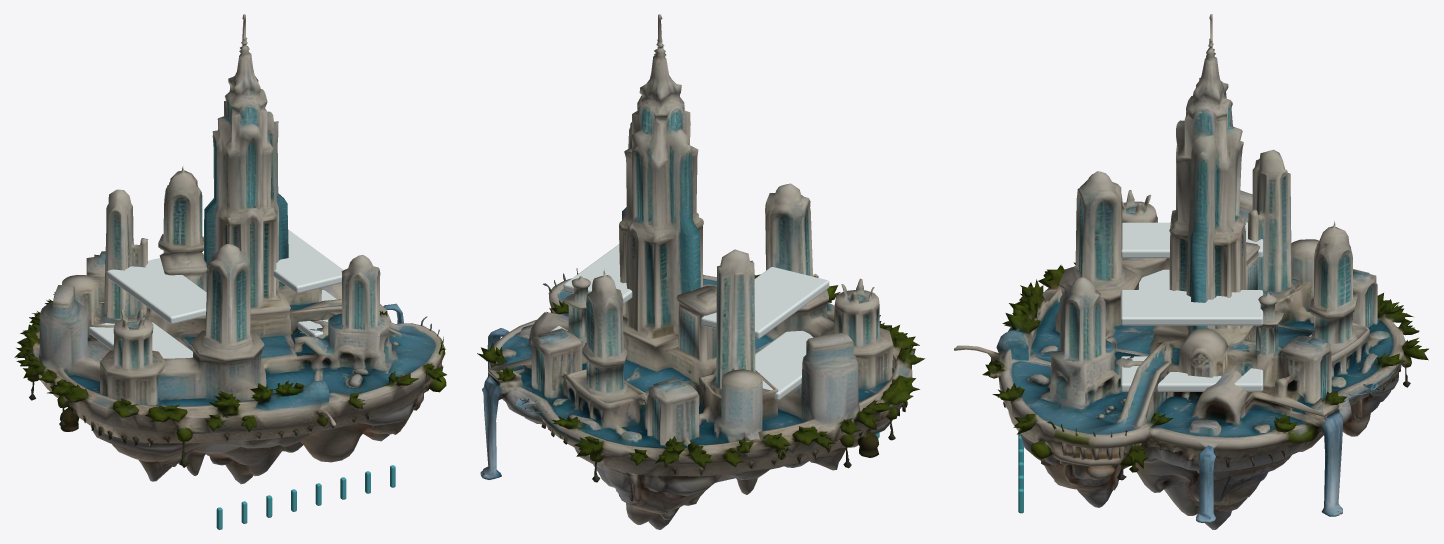
Rendered from sky-citadel.glb.
The picture shows the model from 3 angles, left to right: view 1: azimuth 30°, elevation 25°; view 2: azimuth 150°, elevation 25°; view 3: azimuth 270°, elevation 25°; orthographic projection. The views are drawn at different scales.
Visible parts, largest first — view 1: Tripo_tripo_node_2d5cb89b-26f1-4fc8-911f-34947eb85bc4, Terrace cornice, Harbor bollard; view 2: Tripo_tripo_node_2d5cb89b-26f1-4fc8-911f-34947eb85bc4, Terrace cornice; view 3: Tripo_tripo_node_2d5cb89b-26f1-4fc8-911f-34947eb85bc4, Terrace cornice.
Boxes of the visible parts, x1=… form: Tripo_tripo_node_2d5cb89b-26f1-4fc8-911f-34947eb85bc4: x1=14, y1=14, x2=446, y2=484; Terrace cornice: x1=89, y1=229, x2=343, y2=358; Harbor bollard: x1=216, y1=465, x2=395, y2=529; Tripo_tripo_node_2d5cb89b-26f1-4fc8-911f-34947eb85bc4: x1=477, y1=14, x2=924, y2=529; Terrace cornice: x1=551, y1=244, x2=829, y2=400; Tripo_tripo_node_2d5cb89b-26f1-4fc8-911f-34947eb85bc4: x1=954, y1=14, x2=1428, y2=529; Terrace cornice: x1=1120, y1=222, x2=1263, y2=391.
Bounding box in the file's own units: 0.8356 × 1 × 0.8356.
Materials: 3 (1 with a texture image).
